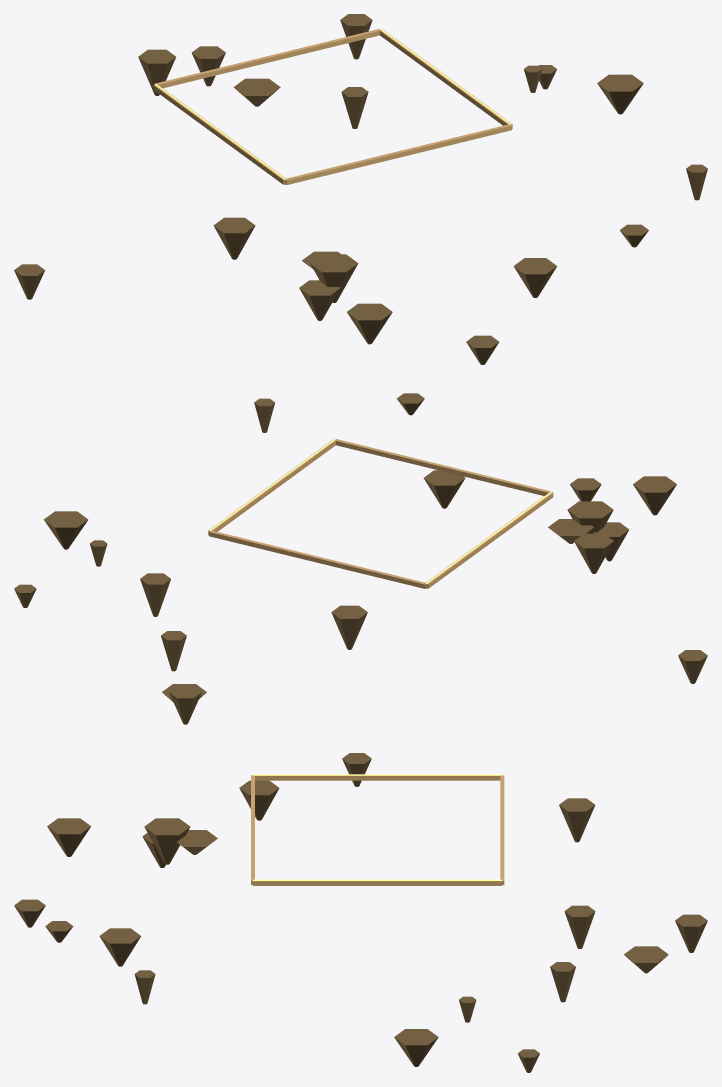
The model's file is venus.glb.
The picture shows the model from 3 angles, top to bottom: view 1: azimuth 30°, elevation 25°; view 2: azimuth 150°, elevation 25°; view 3: azimuth 270°, elevation 25°; orthographic projection. The views are drawn at different scales.
Parts seen in each view (by area): view 1: venus; view 2: venus; view 3: venus.
Part boxes in pixels (left/top/right/bottom): venus: left=14, top=14, right=707, bottom=364; venus: left=14, top=393, right=707, bottom=724; venus: left=14, top=753, right=707, bottom=1072.
Size of the model in its own units: 88.09 by 16.05 by 84.92.
